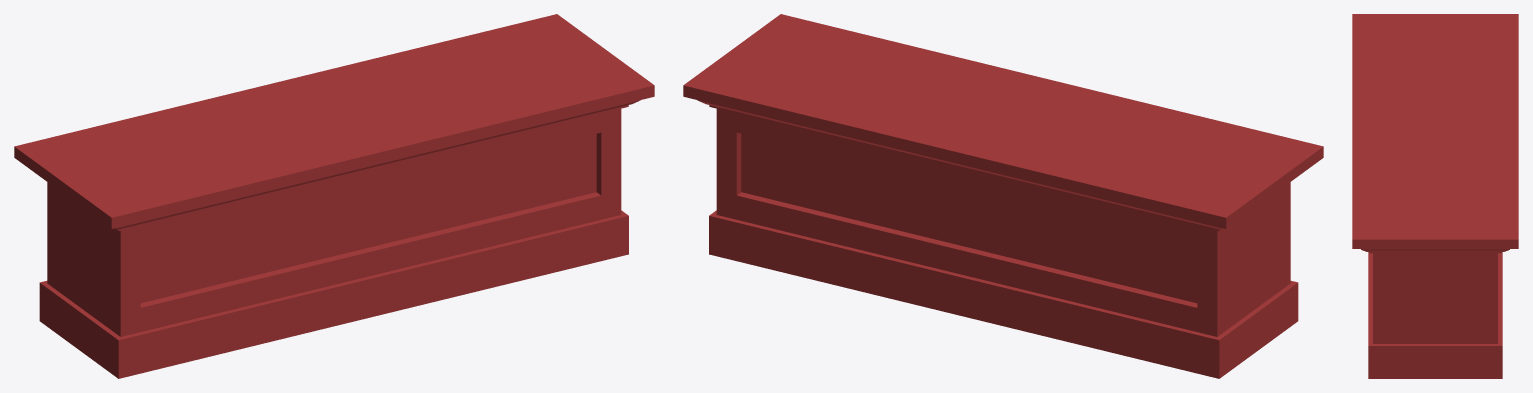
Rendered from st2_main_part_01_low.fbx.
3 views of the same model, side by side, from view 1: azimuth 30°, elevation 25°; view 2: azimuth 150°, elevation 25°; view 3: azimuth 270°, elevation 25° (orthographic). The views are drawn at different scales.
Visible parts, largest first — view 1: Plane006; view 2: Plane006; view 3: Plane006.
Part boxes in pixels (box(x1,y1,x2,y2)): Plane006: box(14, 14, 654, 378); Plane006: box(683, 14, 1323, 378); Plane006: box(1352, 14, 1518, 378).
Size of the model in its own units: 1067 by 323 by 332.
